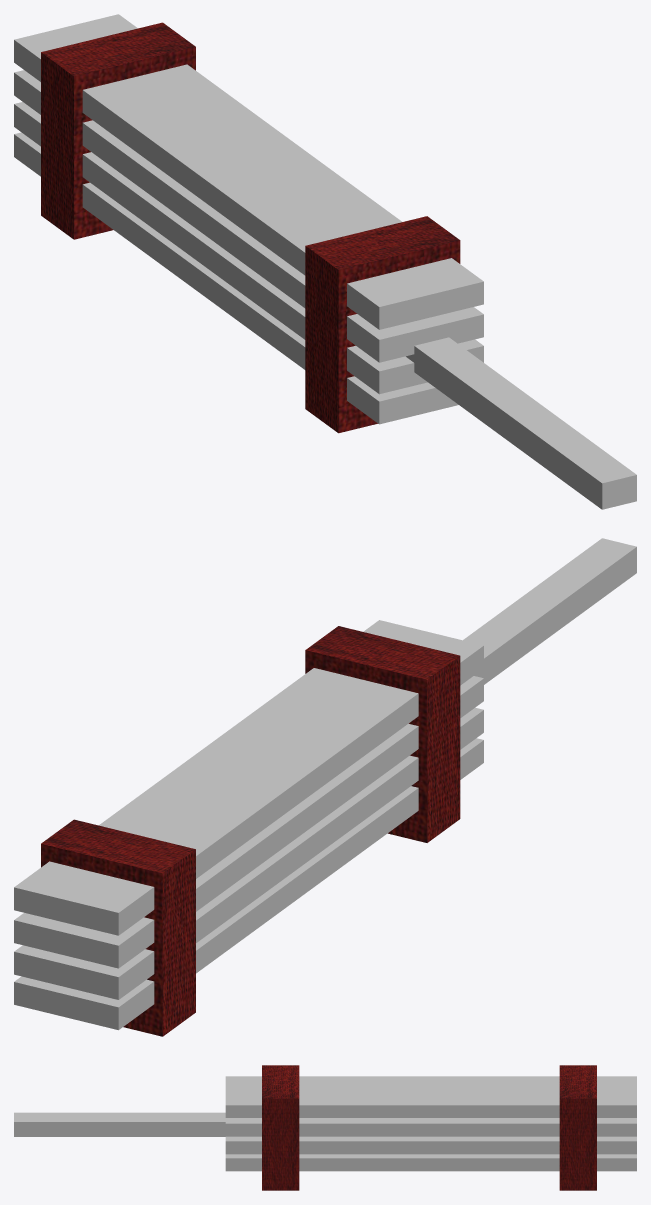
The model's file is cross.fbx.
3 views of the same model, one above another, from view 1: azimuth 30°, elevation 25°; view 2: azimuth 150°, elevation 25°; view 3: azimuth 270°, elevation 25° (orthographic). The views are drawn at different scales.
Parts seen in each view (by area): view 1: Cube.003, Cube.006, Cube.005, Cube.004, Cube.001, Cube, Cube.002; view 2: Cube.003, Cube.006, Cube.005, Cube.001, Cube.002, Cube, Cube.004; view 3: Cube.003, Cube.001, Cube.002, Cube, Cube.004, Cube.005, Cube.006.
Part boxes in pixels (x1,y1,x2,y2): Cube.003: (14,14,483,329); Cube.006: (305,216,460,433); Cube.005: (41,22,195,239); Cube.004: (406,337,636,509); Cube.001: (14,70,483,362); Cube: (14,132,458,424); Cube.002: (14,102,483,394); Cube.003: (14,620,483,935); Cube.006: (305,626,460,842); Cube.005: (41,819,195,1036); Cube.001: (14,676,483,968); Cube.002: (14,707,483,999); Cube: (14,738,483,1030); Cube.004: (463,538,636,684); Cube.003: (225,1076,636,1117); Cube.001: (225,1118,636,1136); Cube.002: (225,1136,636,1154); Cube: (225,1154,636,1171); Cube.004: (14,1112,225,1136); Cube.005: (559,1065,596,1190); Cube.006: (262,1065,299,1190).
Bounding box in the file's own units: 89.79 × 115 × 706.
